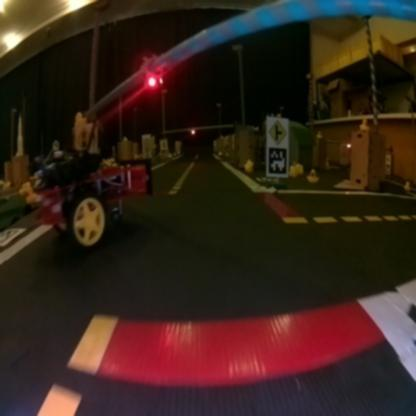duckie: (306, 162, 324, 188), (355, 110, 371, 136)
duckiebot: (34, 120, 153, 250)
